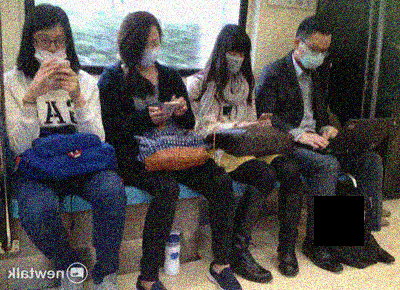mask_weared_incorrect: (34, 31, 67, 65)
with_mask: (295, 42, 332, 69), (138, 34, 162, 69), (222, 47, 246, 74)
